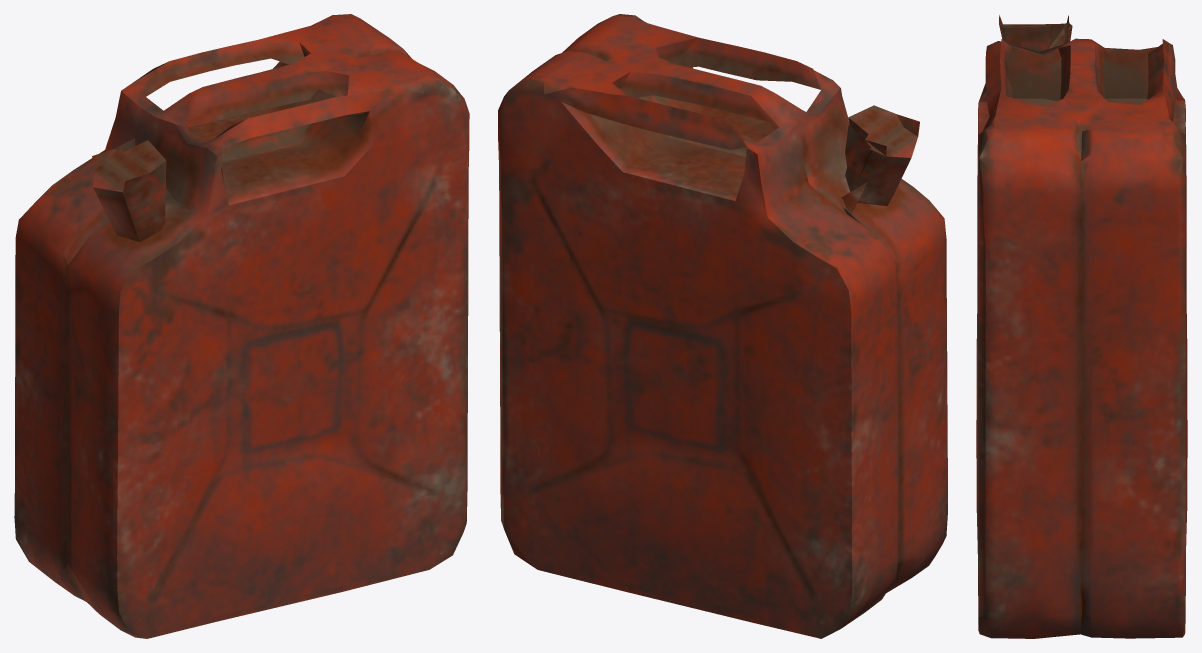
Rendered from jerrycan_metal.glb.
3 renders of one model, left to right at view 1: azimuth 30°, elevation 25°; view 2: azimuth 150°, elevation 25°; view 3: azimuth 270°, elevation 25°, orthographic. The views are drawn at different scales.
Visible parts, largest first — view 1: mesh; view 2: mesh; view 3: mesh.
Part boxes in pixels (bbox=[...]): mesh: bbox=[14, 14, 469, 638]; mesh: bbox=[498, 14, 947, 638]; mesh: bbox=[976, 15, 1187, 638].
Size of the model in its own units: 0.3503 by 0.4552 by 0.1718.
Materials: 1 (1 with a texture image).
